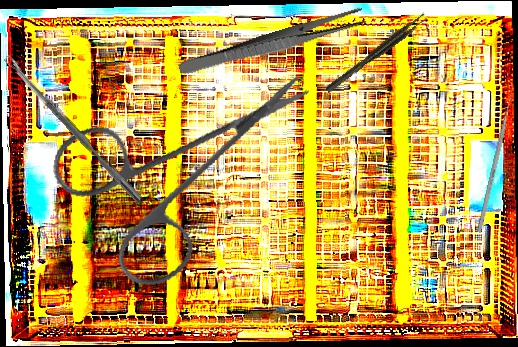Dressing Forceps: (177, 5, 367, 82)
Iris Scissors: (34, 33, 312, 310)
Pusher: (476, 85, 516, 234)
Surgical Spoon: (3, 53, 146, 206)
Tissue Forceps: (322, 11, 430, 94)
